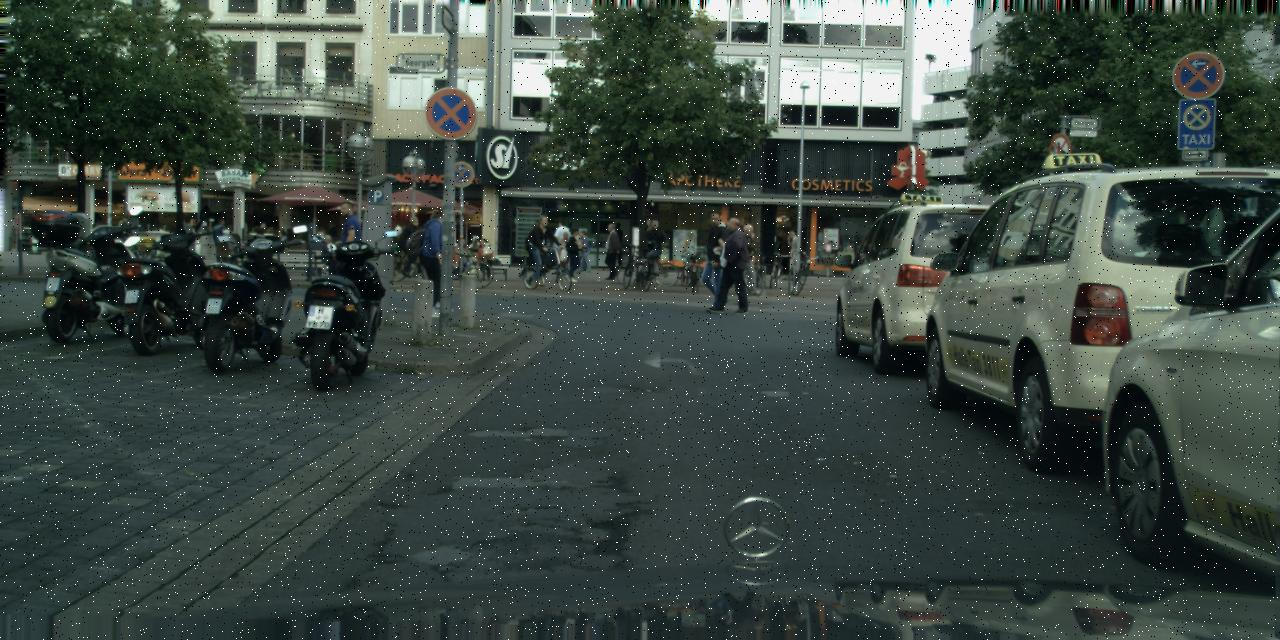ped: (325, 201, 370, 312), (420, 204, 464, 314), (711, 218, 750, 312), (698, 212, 736, 304), (729, 224, 757, 294), (528, 215, 554, 279), (524, 220, 548, 279), (399, 216, 422, 270), (600, 223, 622, 277), (635, 221, 656, 273), (563, 228, 583, 278), (782, 231, 802, 279), (211, 218, 231, 266), (552, 220, 572, 266), (608, 222, 626, 267), (575, 230, 591, 271), (555, 232, 571, 273), (221, 229, 237, 269), (307, 216, 322, 254), (294, 232, 304, 238), (288, 244, 302, 248)
